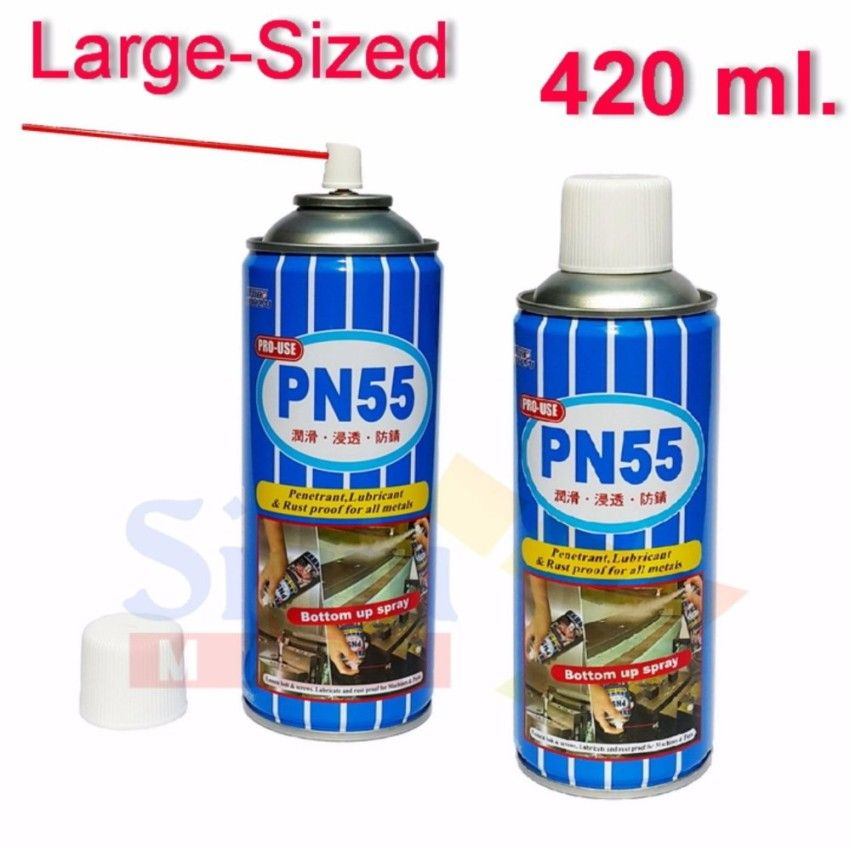Aerosol_cans: (508, 171, 724, 804), (237, 140, 443, 748)
